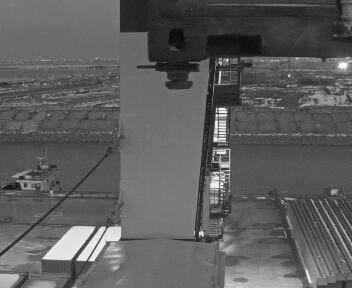twist_lock_1: (149, 55, 207, 98)
